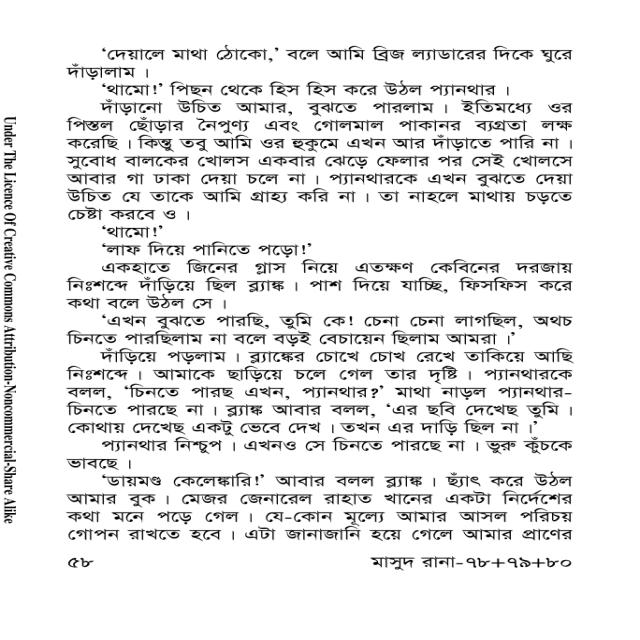page number: (62, 554, 99, 574)
paragraph: (60, 100, 578, 226), (58, 379, 575, 478), (60, 347, 576, 427), (62, 471, 575, 545), (66, 257, 578, 312), (67, 40, 578, 82), (62, 311, 577, 349), (65, 435, 579, 473), (87, 78, 516, 99), (98, 239, 317, 259), (97, 223, 165, 240)
text: (0, 112, 19, 528), (365, 552, 577, 575)
